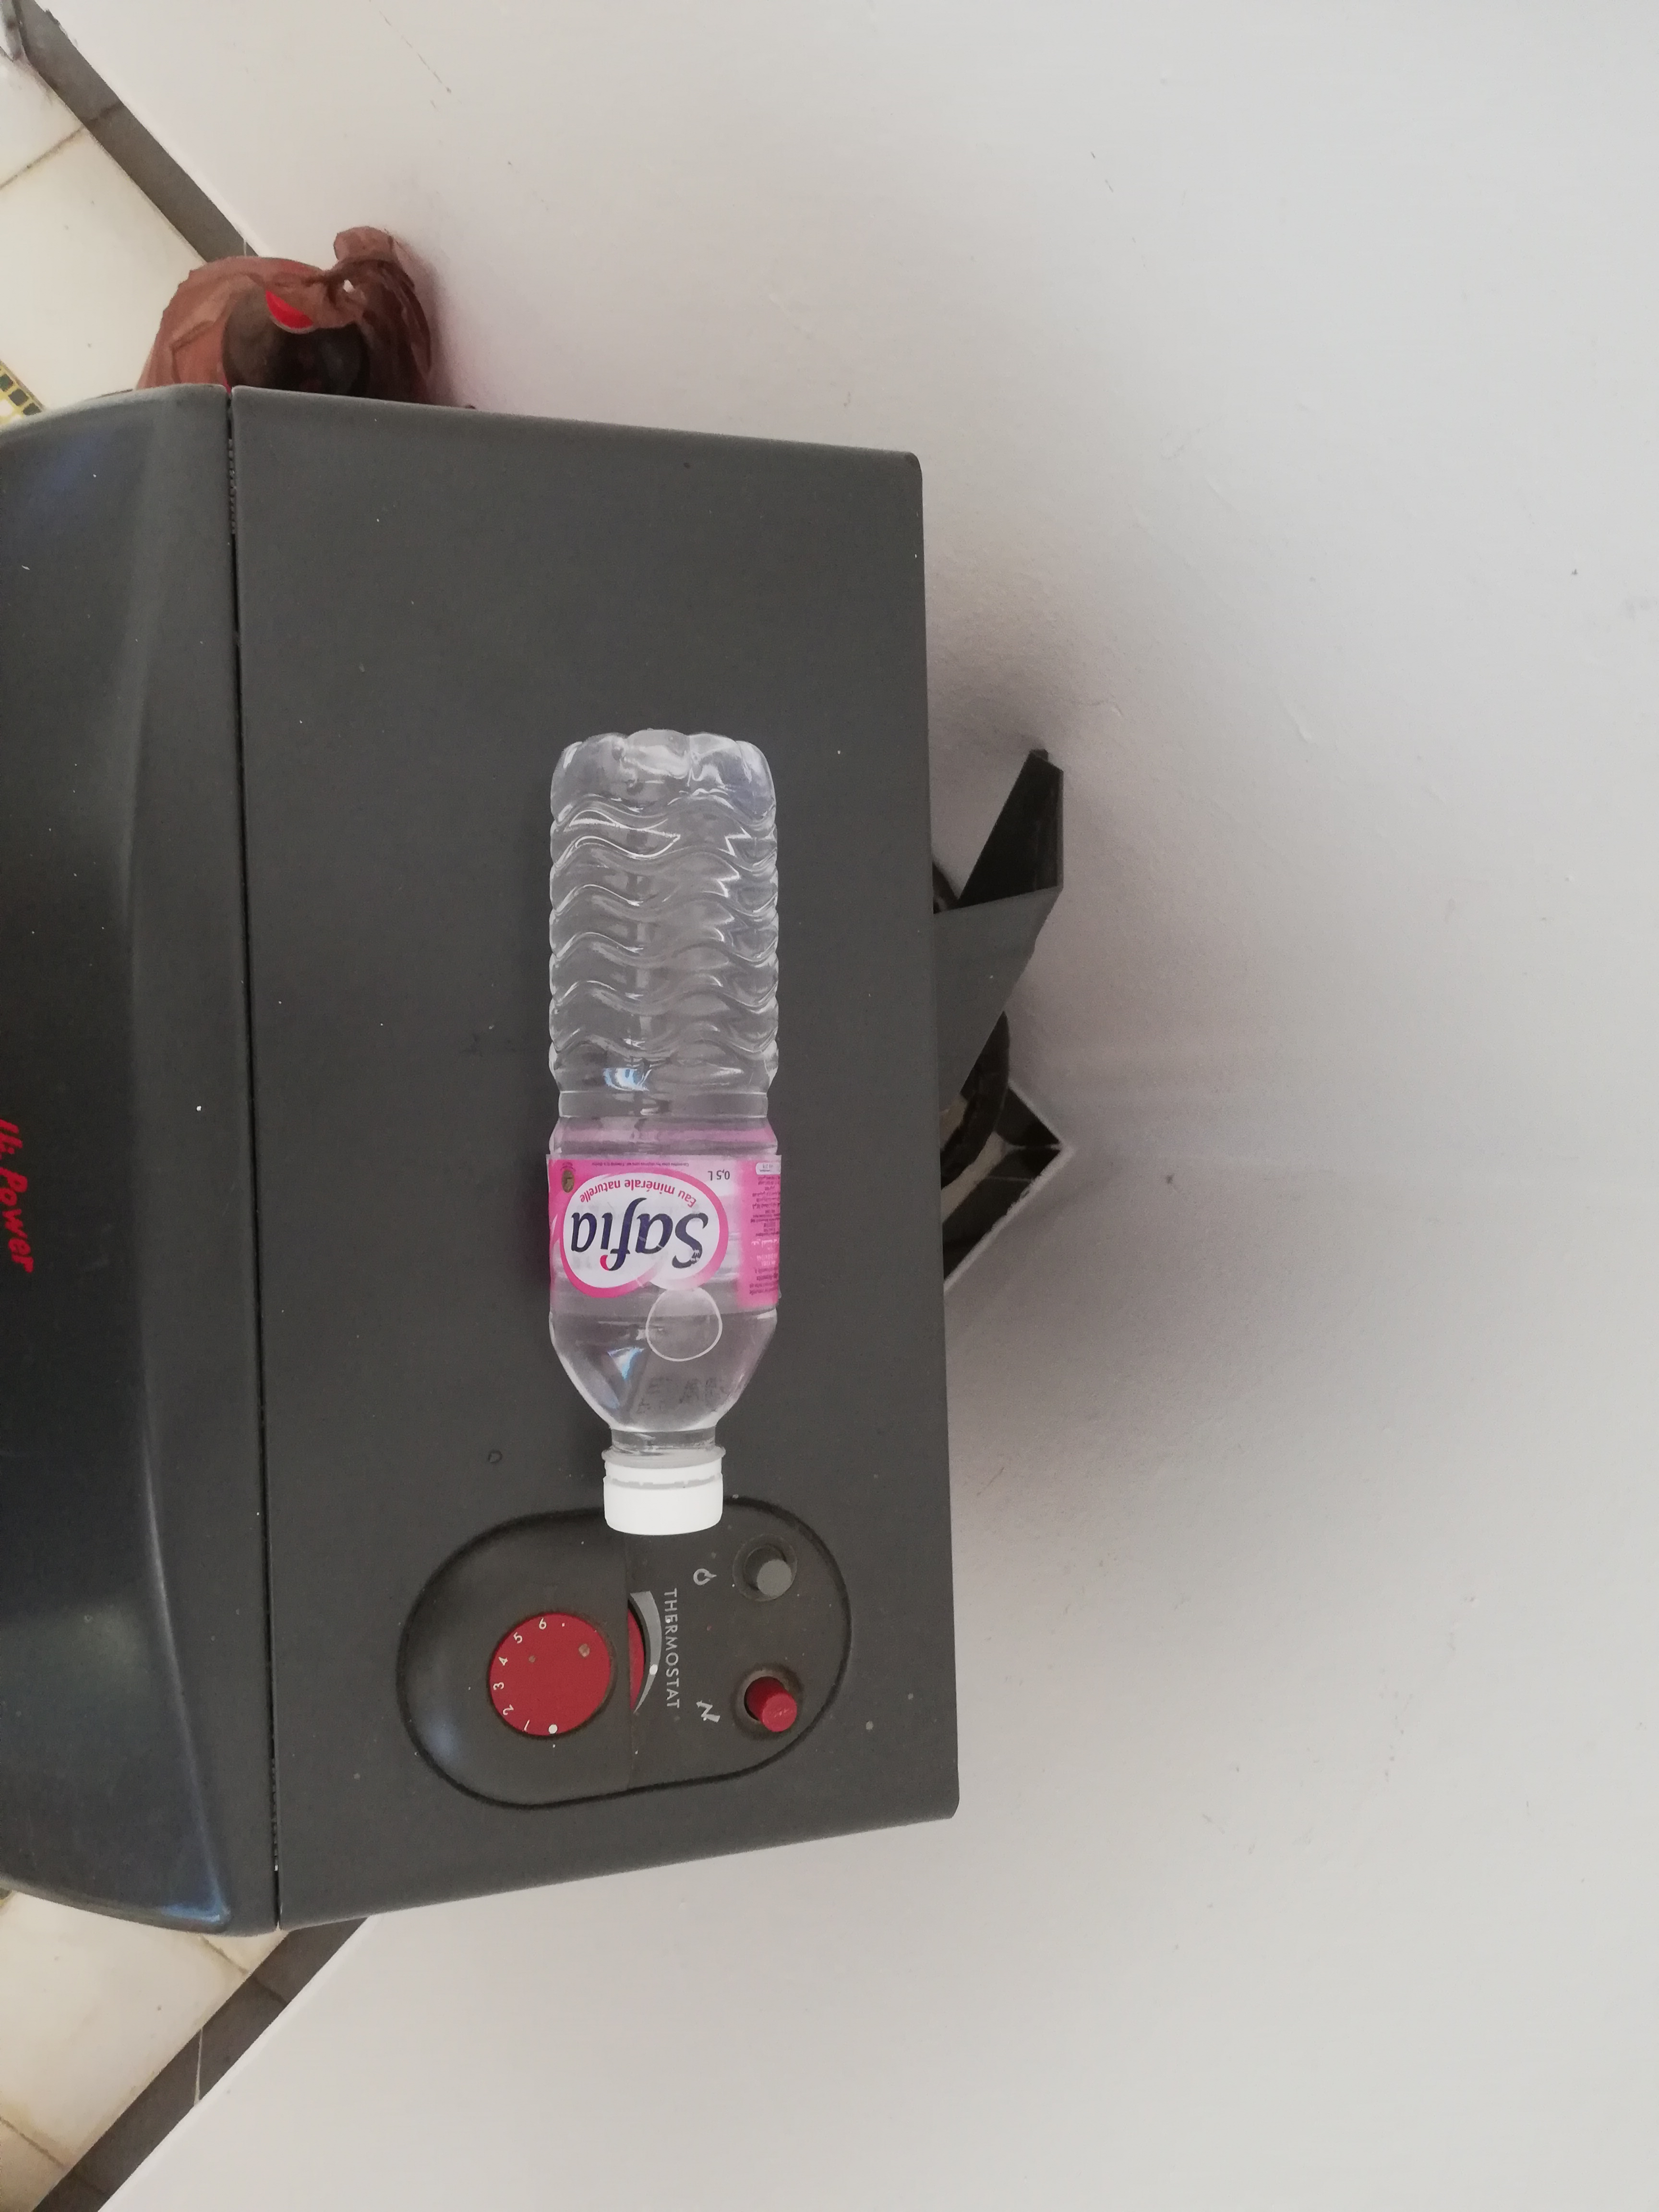Eau safia: (535, 728, 774, 1538)
